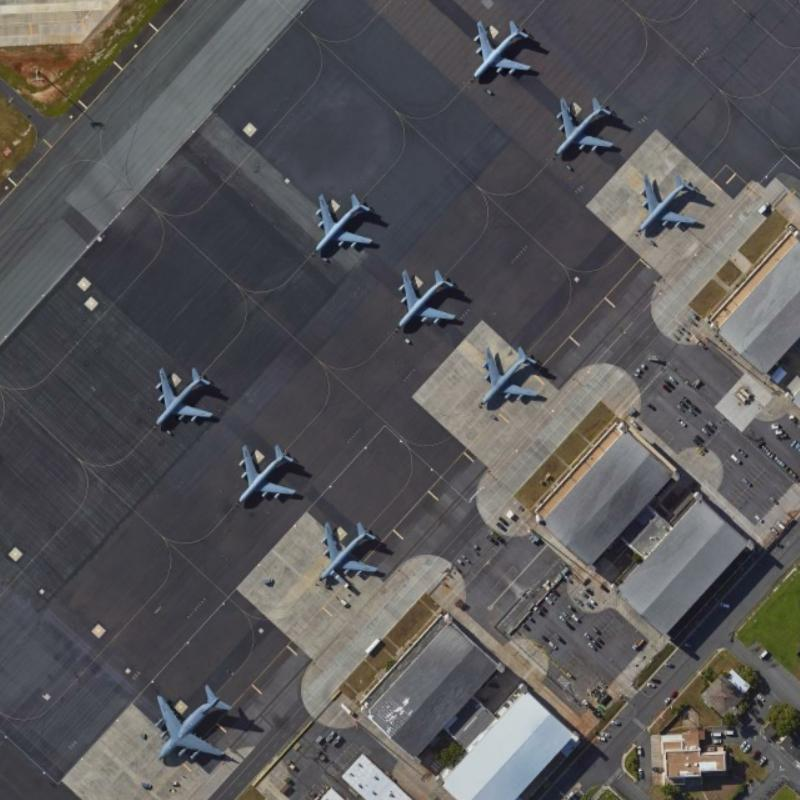A14: (549, 91, 619, 162), (633, 168, 702, 238), (232, 439, 301, 506), (467, 15, 537, 81), (392, 264, 457, 332), (150, 362, 216, 428), (312, 189, 377, 255), (477, 343, 543, 408), (317, 518, 381, 583)
A3: (150, 678, 232, 765)
